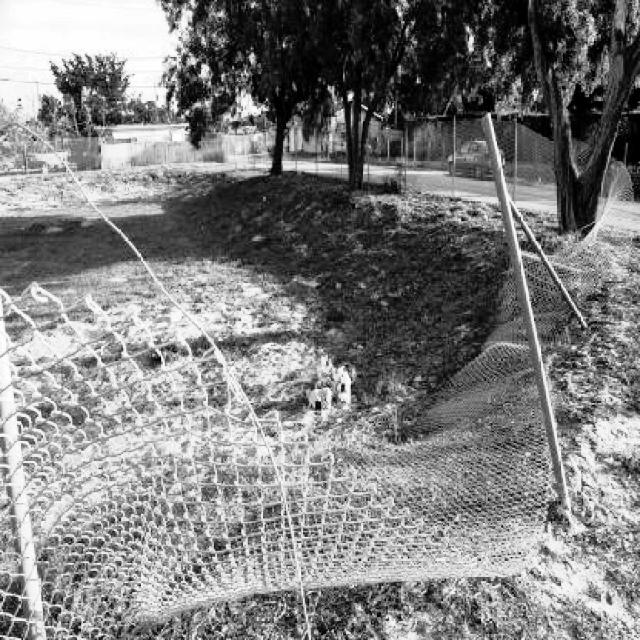anomaly-fence: (0, 136, 612, 638)
